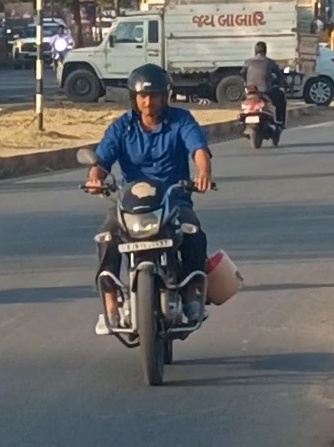BikeWithRider: (70, 57, 243, 391), (230, 37, 295, 152), (49, 23, 77, 75)
Helmet: (121, 60, 179, 122)
NoHelmet: (249, 38, 271, 60)
